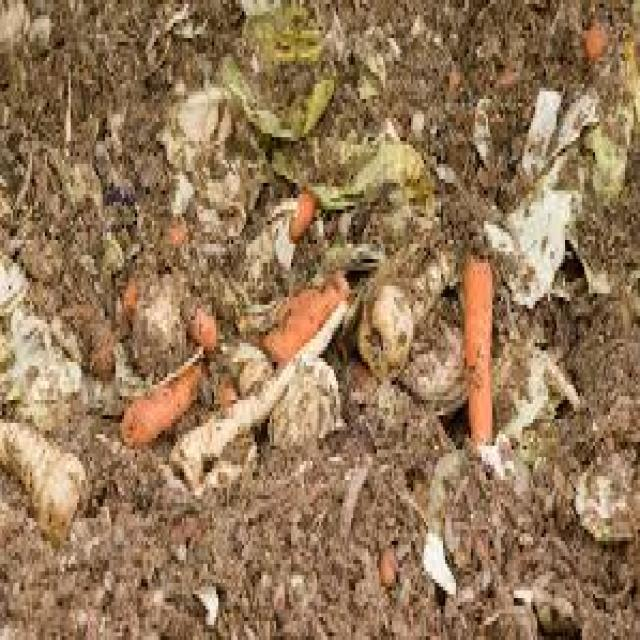Organik: (2, 4, 640, 640), (450, 215, 524, 489), (109, 344, 228, 456), (257, 281, 362, 367), (166, 262, 236, 380), (274, 177, 334, 268)
